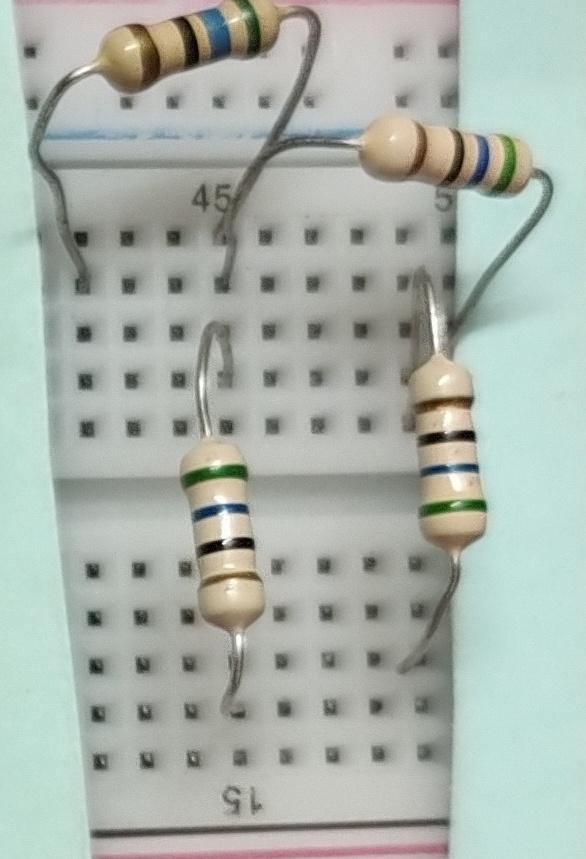resistor: (390, 346, 522, 562), (174, 430, 292, 636), (350, 102, 540, 218), (86, 0, 294, 88)
